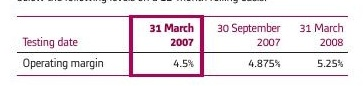table: (0, 0, 363, 86)
